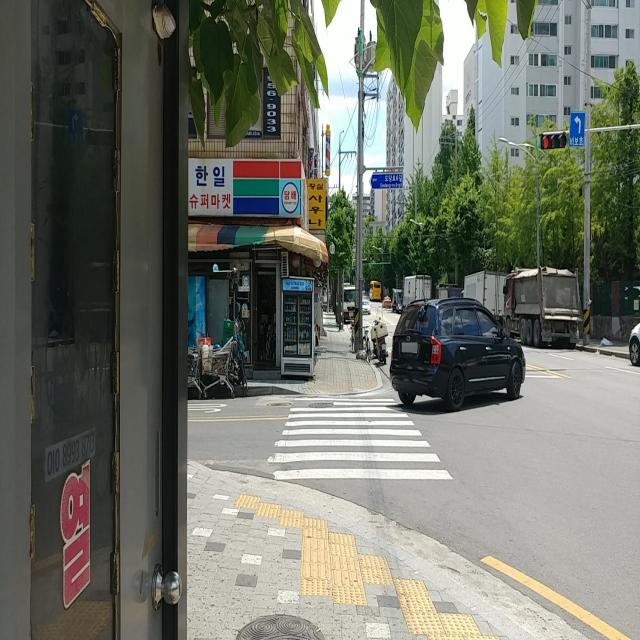횡단보도: (266, 395, 455, 482)
